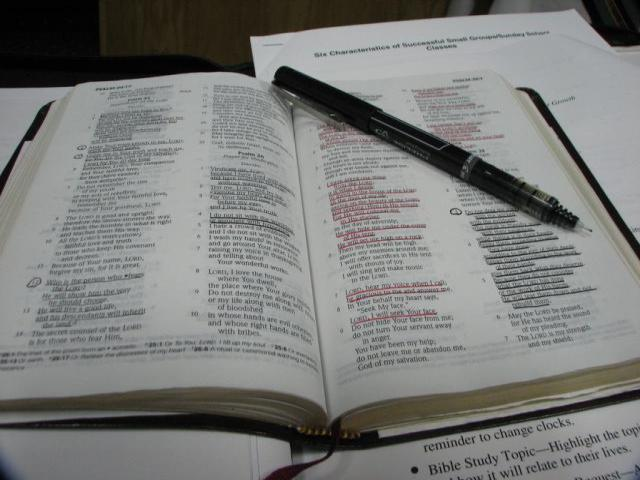PEN: (250, 61, 597, 239)
